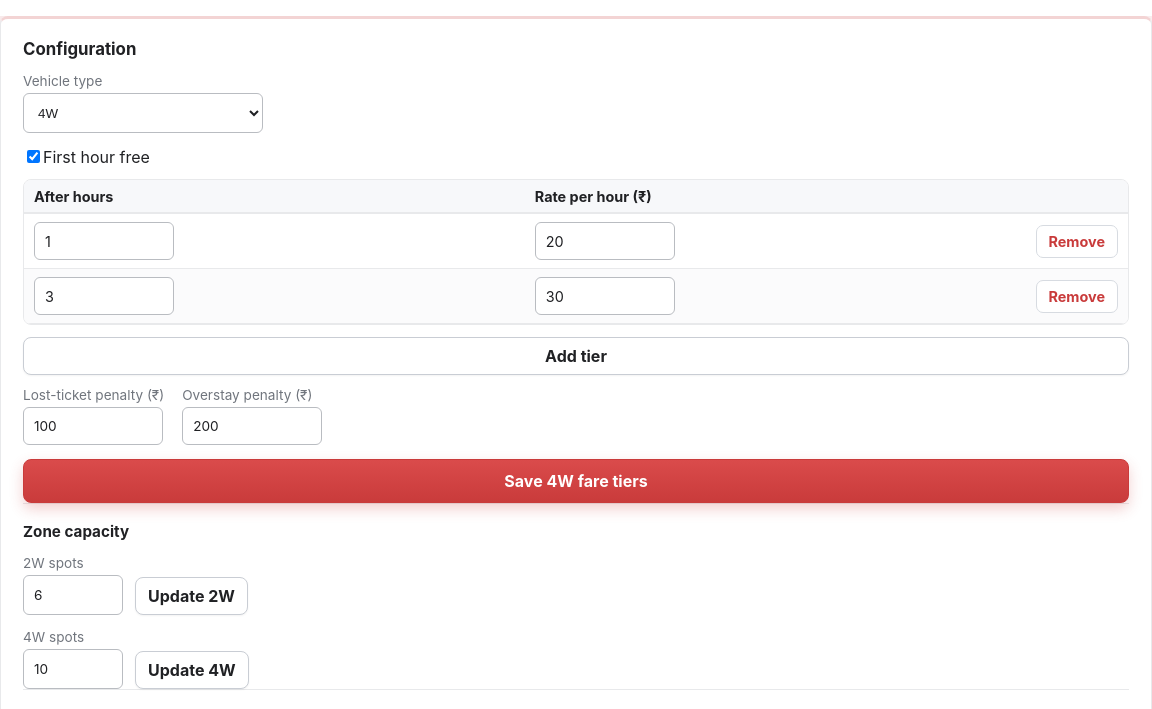
Scenario: S4-T4 — admin configuration panel (VPS-F-055, VPS-F-056) › loads the effective fare table and saves edited tiers without a redeploy
Expected: the number field named "Tier 1 rate per hour" holds "20", [535, 222, 675, 260]
Select "2W" in the dropdown labelled "Vehicle type" at (143, 113), box [23, 93, 263, 133]
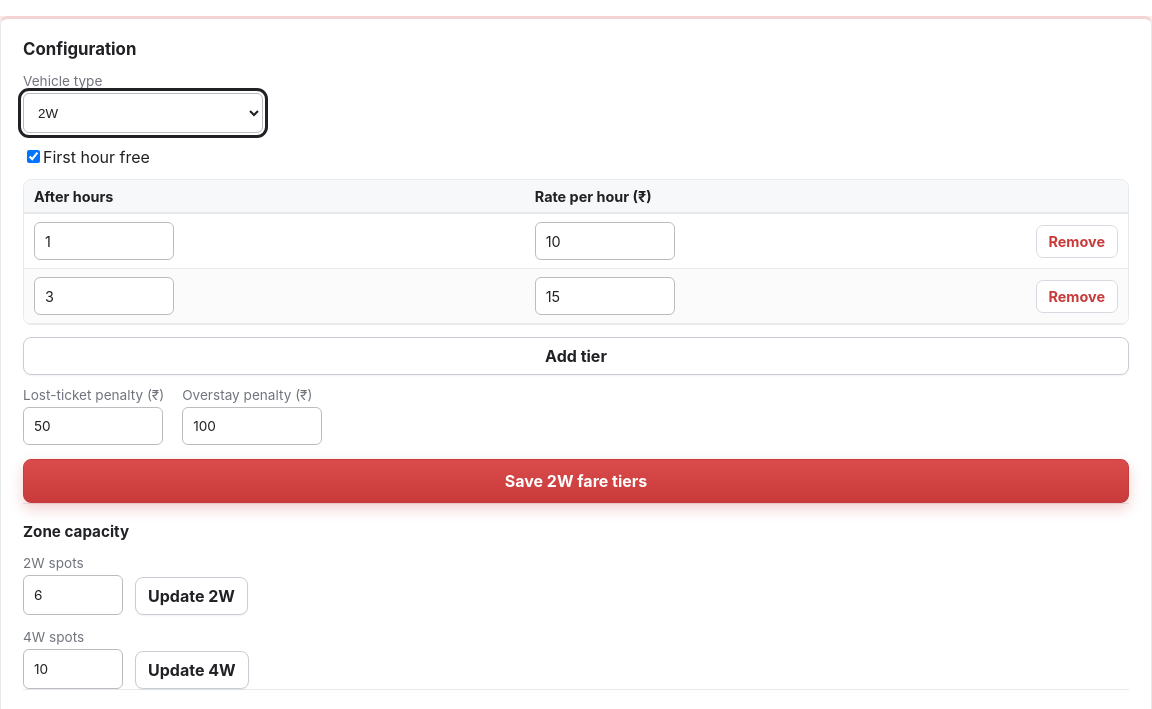
Replace the text in the number field named "Tier 1 rate per hour" with "12" at (605, 241), box [535, 222, 675, 260]
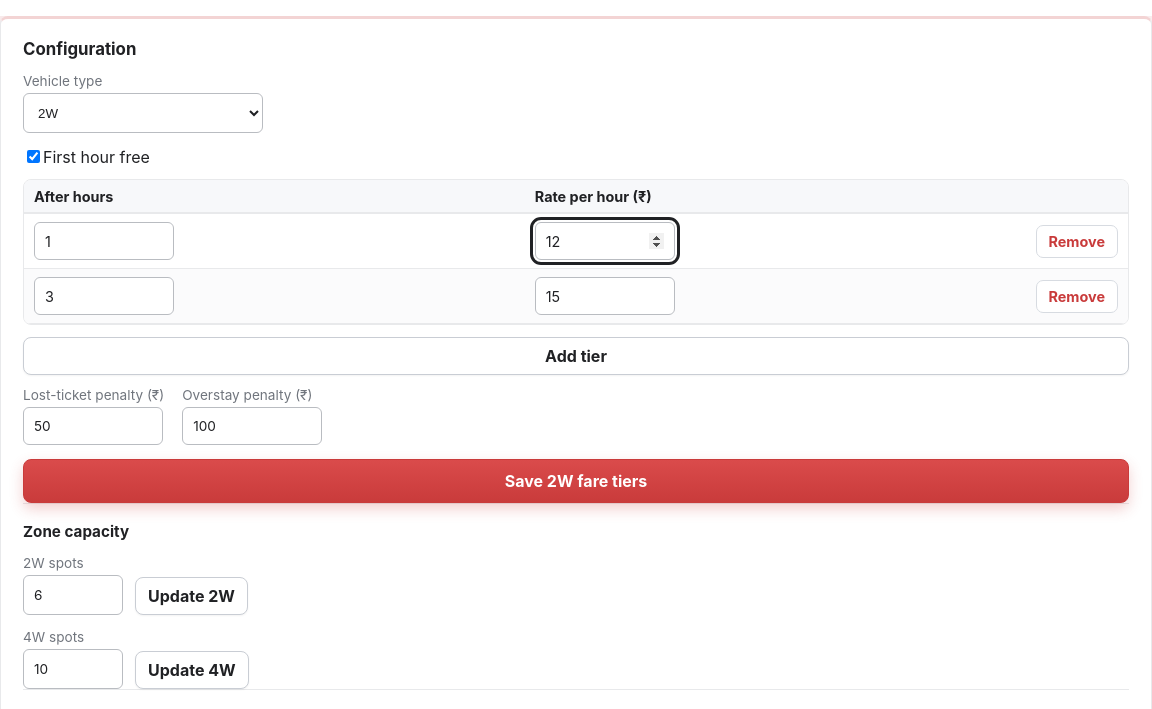
Click the button "Save 2W fare tiers" at (576, 481), box [23, 459, 1129, 503]
(page scrolled)
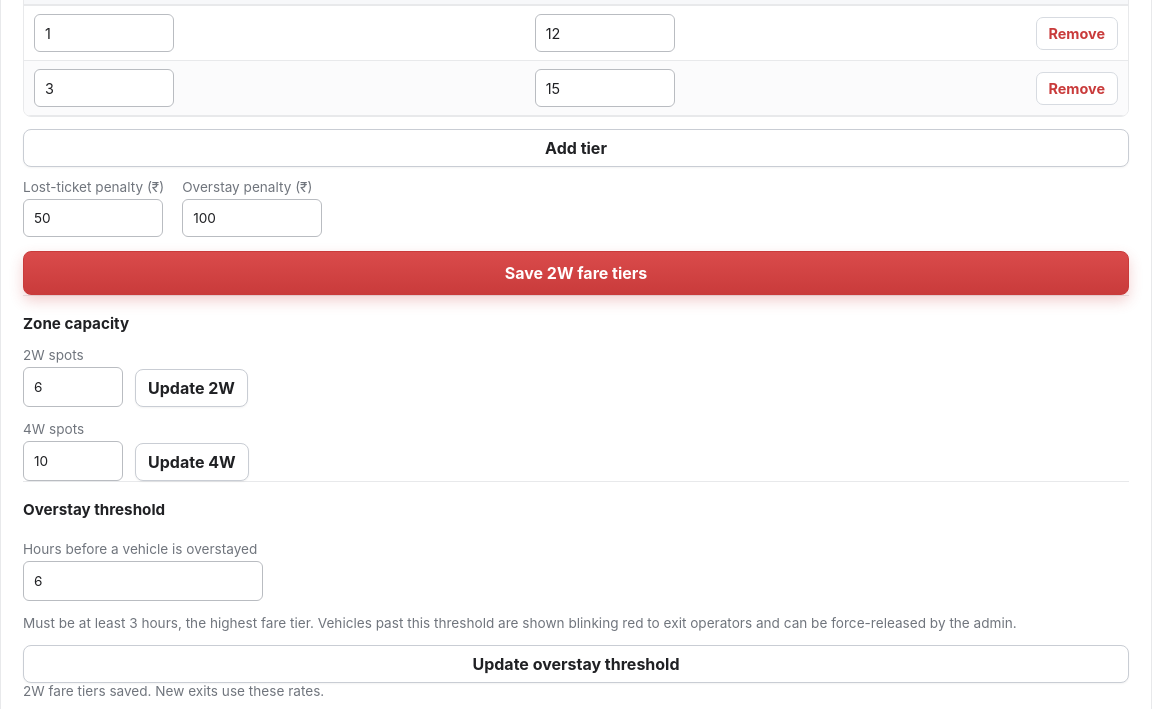
Expected: the text "2W fare tiers saved. New exits use these rates." is shown, [23, 683, 324, 699]
